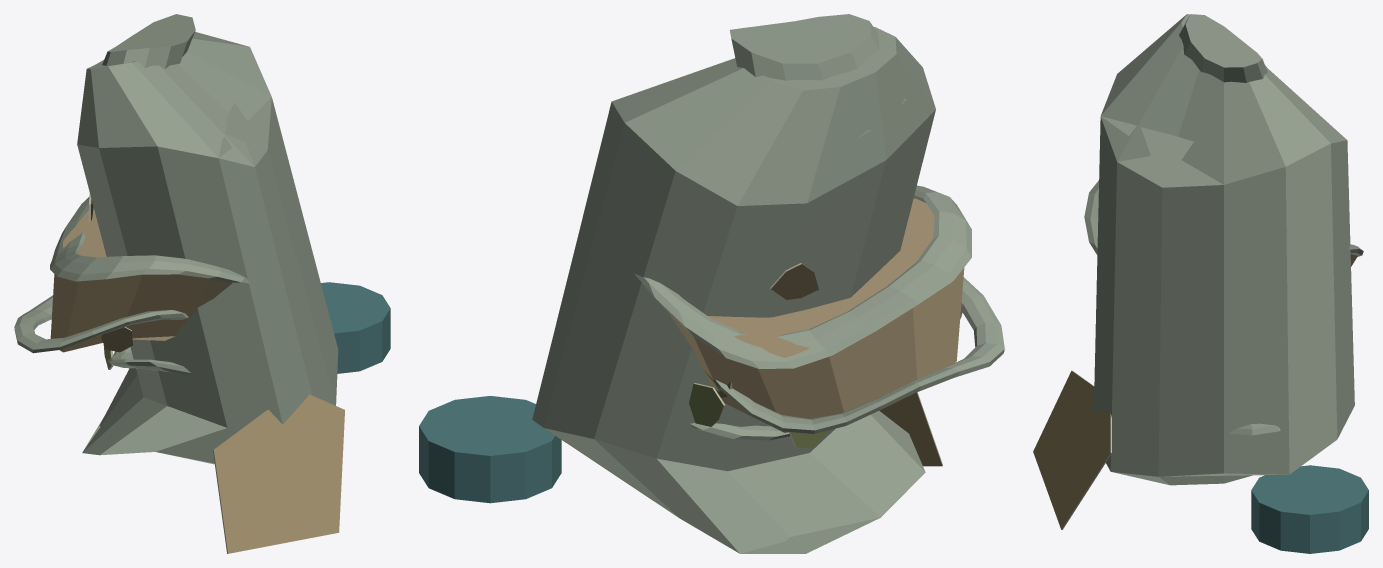
File: Bottle_Collapsed_Uncapped.glb
3 views of the same model, side by side, from view 1: azimuth 30°, elevation 25°; view 2: azimuth 150°, elevation 25°; view 3: azimuth 270°, elevation 25° (orthographic). The views are drawn at different scales.
Visible parts, largest first — view 1: Litter; view 2: Litter; view 3: Litter.
Boxes of the visible parts, x1,y1,x2,y2 form: Litter: (14,14,390,553); Litter: (419,14,1004,553); Litter: (1033,14,1368,553).
Size of the model in its own units: 0.327 by 0.3452 by 0.2341.
